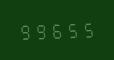five: (63, 19, 77, 39), (78, 19, 92, 38)
nine: (33, 20, 47, 40), (18, 21, 32, 40)
six: (48, 20, 62, 39)
